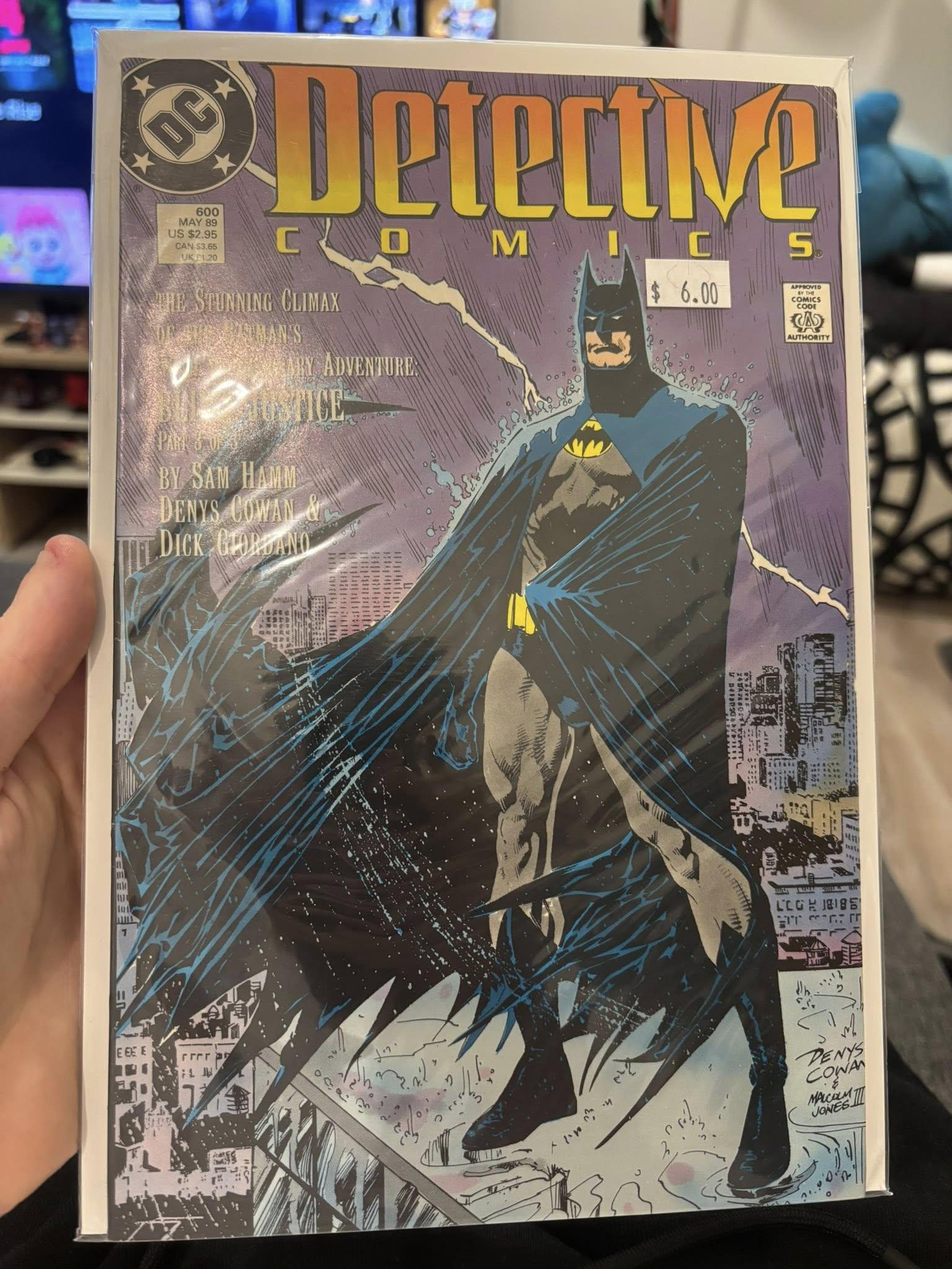comic: (81, 33, 894, 1246)
